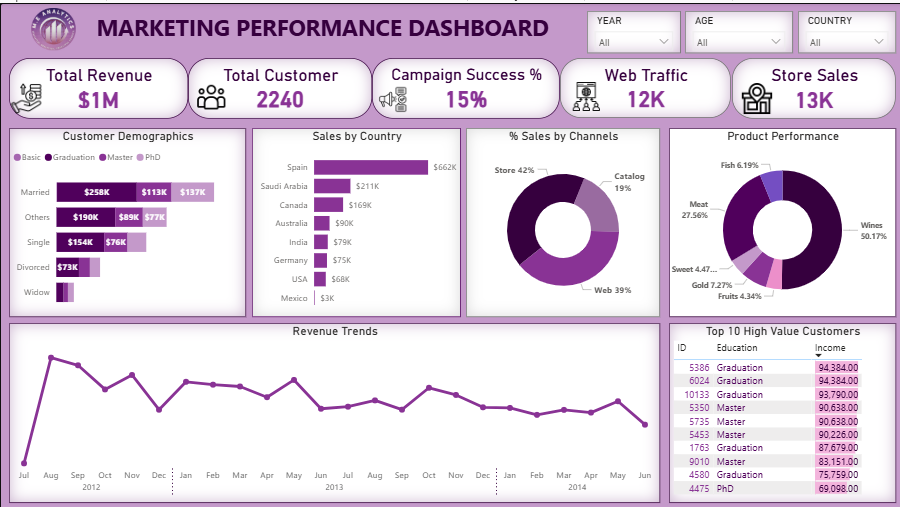

The page's visual inventory and layout, read from the dashboard file:
{"tool":"powerbi","page":{"name":"Campaign Dashboard","canvas":[1280,720],"ordinal":0},"visuals":[{"type":"card","title":"Total Customer","fields":{"Values":["Measures (2).Total_Customers"]},"box":[266.5,78,260.8,86.5],"z":0},{"type":"card","title":"Total Revenue","fields":{"Values":["Measures (2).Total_Revenue"]},"box":[12.8,78,253.7,86.5],"z":1000},{"type":"card","title":"Store Sales","fields":{"Values":["Sum(Fact_Marketing.NumStorePurchases)"]},"box":[1037.5,78,232.4,86.5],"z":2000},{"type":"slicer","fields":{"Values":["Dim_Date.Year Hierarchy.Year","Dim_Date.Year Hierarchy.Short Month"]},"box":[832,11.3,133.2,59.5],"z":3000},{"type":"slicer","fields":{"Values":["Dim_Customer.Country"]},"box":[1131,11.3,138.9,59.5],"z":4000},{"type":"slicer","fields":{"Values":["Dim_Customer.Age"]},"box":[970.9,11.3,153.1,59.5],"z":5000},{"type":"card","title":"Campaign Success %","fields":{"Values":["Avg(Fact_Marketing.Response Numeric)"]},"box":[527.2,78,266.5,86.5],"z":6000},{"type":"card","title":"Web Traffic","fields":{"Values":["Sum(Fact_Marketing.NumWebVisitsMonth)"]},"box":[793.7,78,242.4,85],"z":7000},{"type":"barChart","title":"Customer Demographics","fields":{"Category":["Dim_Customer.Marital_Status"],"Series":["Dim_Customer.Education"],"Y":["Measures (2).Total_Revenue"]},"box":[12.8,177.2,335.9,267.9],"z":8000},{"type":"donutChart","title":"% Sales by Channels","fields":{"Y":["Sum(Fact_Marketing.NumWebVisitsMonth)","Sum(Fact_Marketing.NumStorePurchases)","Sum(Fact_Marketing.NumCatalogPurchases)"]},"box":[660.5,177.2,275,267.9],"z":9000},{"type":"barChart","title":"Sales by Country","fields":{"Category":["Dim_Customer.Country"],"Y":["Measures (2).Total_Revenue"]},"box":[357.2,177.2,296.2,267.9],"z":10000},{"type":"tableEx","title":"Top 10 High Value Customers","fields":{"Values":["Dim_Customer.ID","Dim_Customer.Education","Dim_Customer.Income"]},"box":[948.2,453.5,321.7,255.1],"z":11000},{"type":"image","box":[0,113.4,73.7,43.9],"z":12000},{"type":"image","box":[266.5,113.4,66.6,39.7],"z":13000},{"type":"image","box":[527.2,116.2,59.5,41.1],"z":14000},{"type":"image","box":[806.5,112,49.6,41.1],"z":15000},{"type":"image","box":[1047.4,113.4,51,43.9],"z":16000},{"type":"lineChart","title":"Revenue Trends","fields":{"Category":["Dim_Date.Year Hierarchy.Year","Dim_Date.Year Hierarchy.Short Month"],"Y":["Measures (2).Total_Revenue"]},"box":[12.8,453.5,922.7,255.1],"z":17000},{"type":"textbox","box":[104.9,7.1,704.4,59.5],"z":18000},{"type":"donutChart","title":"Product Performance","fields":{"Y":["Sum(Fact_Marketing.Wines)","Sum(Fact_Marketing.Fruits)","Sum(Fact_Marketing.Gold_Products)","Sum(Fact_Marketing.Sweet_Products)","Sum(Fact_Marketing.Meat_Products)","Sum(Fact_Marketing.Fish)"]},"box":[948.2,177.2,321.7,267.9],"z":19000},{"type":"image","box":[28.3,7.1,95,59.5],"z":20000}]}

Visuals, with their boxes in screenshot pixels (x1, y1, x2, y2), scaled from the page's 1280x720 canvas onto the 900x507 screenshot:
"Total Customer" card: crop(187, 55, 371, 116)
"Total Revenue" card: crop(9, 55, 187, 116)
"Store Sales" card: crop(729, 55, 893, 116)
slicer - Dim_Date.Year Hierarchy.Year x Dim_Date.Year Hierarchy.Short Month: crop(585, 8, 679, 50)
slicer - Dim_Customer.Country: crop(795, 8, 893, 50)
slicer - Dim_Customer.Age: crop(683, 8, 790, 50)
"Campaign Success %" card: crop(371, 55, 558, 116)
"Web Traffic" card: crop(558, 55, 729, 115)
"Customer Demographics" barChart: crop(9, 125, 245, 313)
"% Sales by Channels" donutChart: crop(464, 125, 658, 313)
"Sales by Country" barChart: crop(251, 125, 459, 313)
"Top 10 High Value Customers" tableEx: crop(667, 319, 893, 499)
image: crop(0, 80, 52, 111)
image: crop(187, 80, 234, 108)
image: crop(371, 82, 413, 111)
image: crop(567, 79, 602, 108)
image: crop(736, 80, 772, 111)
"Revenue Trends" lineChart: crop(9, 319, 658, 499)
textbox: crop(74, 5, 569, 47)
"Product Performance" donutChart: crop(667, 125, 893, 313)
image: crop(20, 5, 87, 47)
